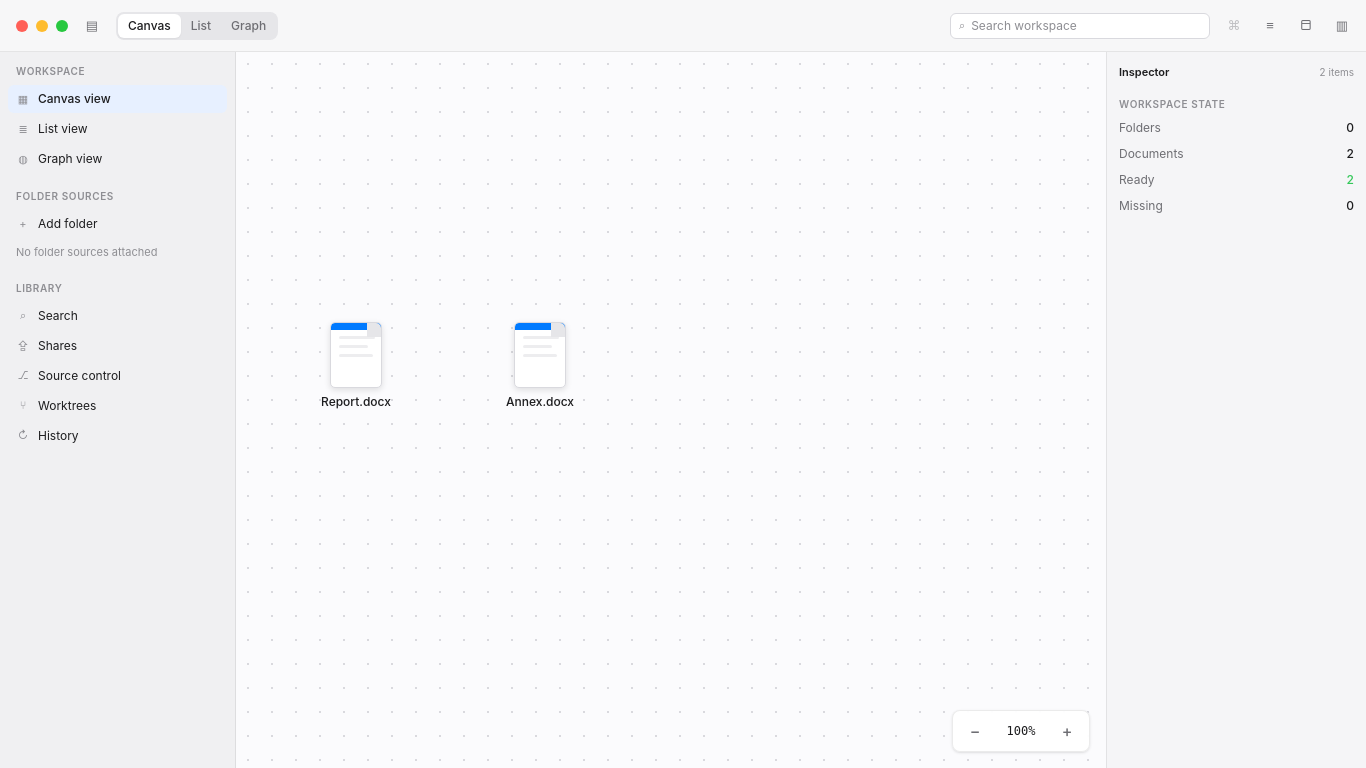
Test: UI-03 screen 12 — only overlays with a real source and trigger › mounts the PDF progress overlay from the real batch export response
The width and height of the screenshot is (1366, 768).
Click the button named "PDF" at (1306, 26), box [1294,14,1318,38]
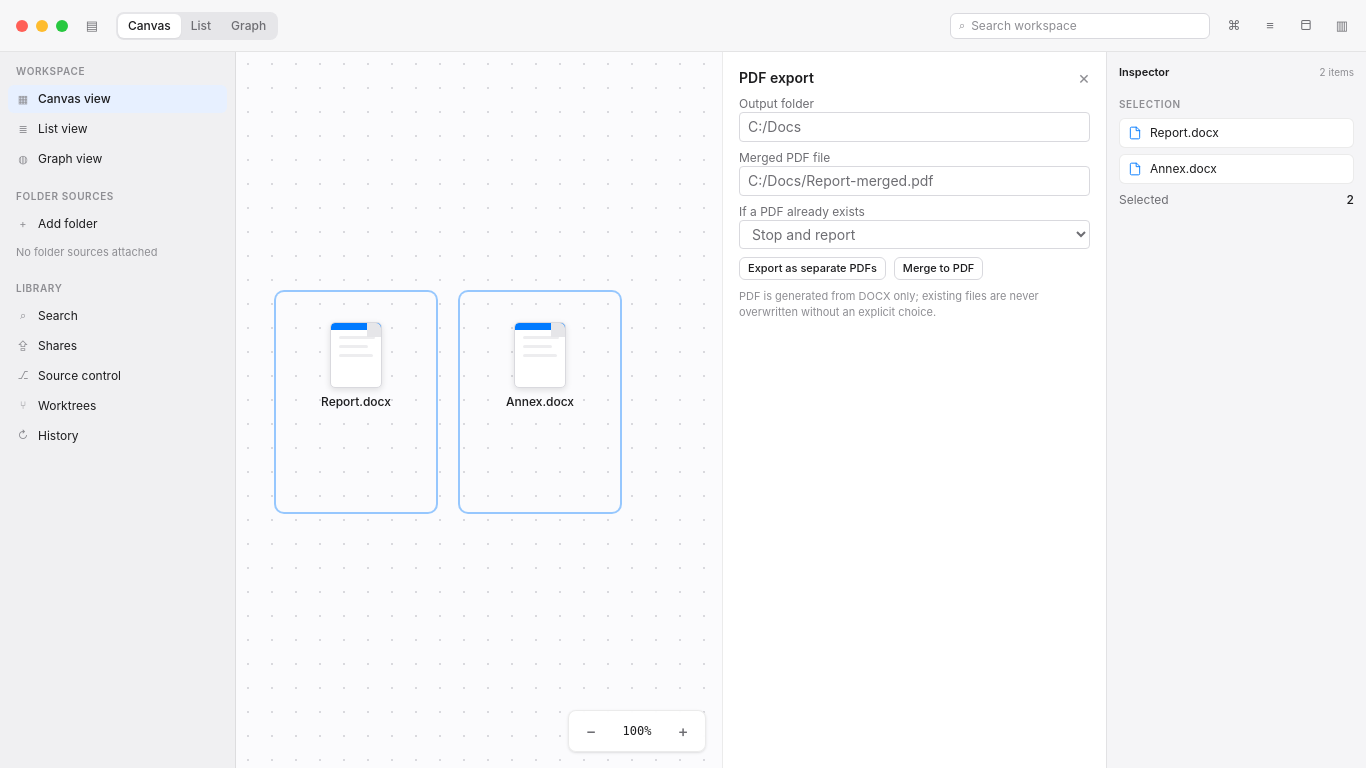
Click the button "Export as separate PDFs" at (812, 268), box [739,257,886,280]
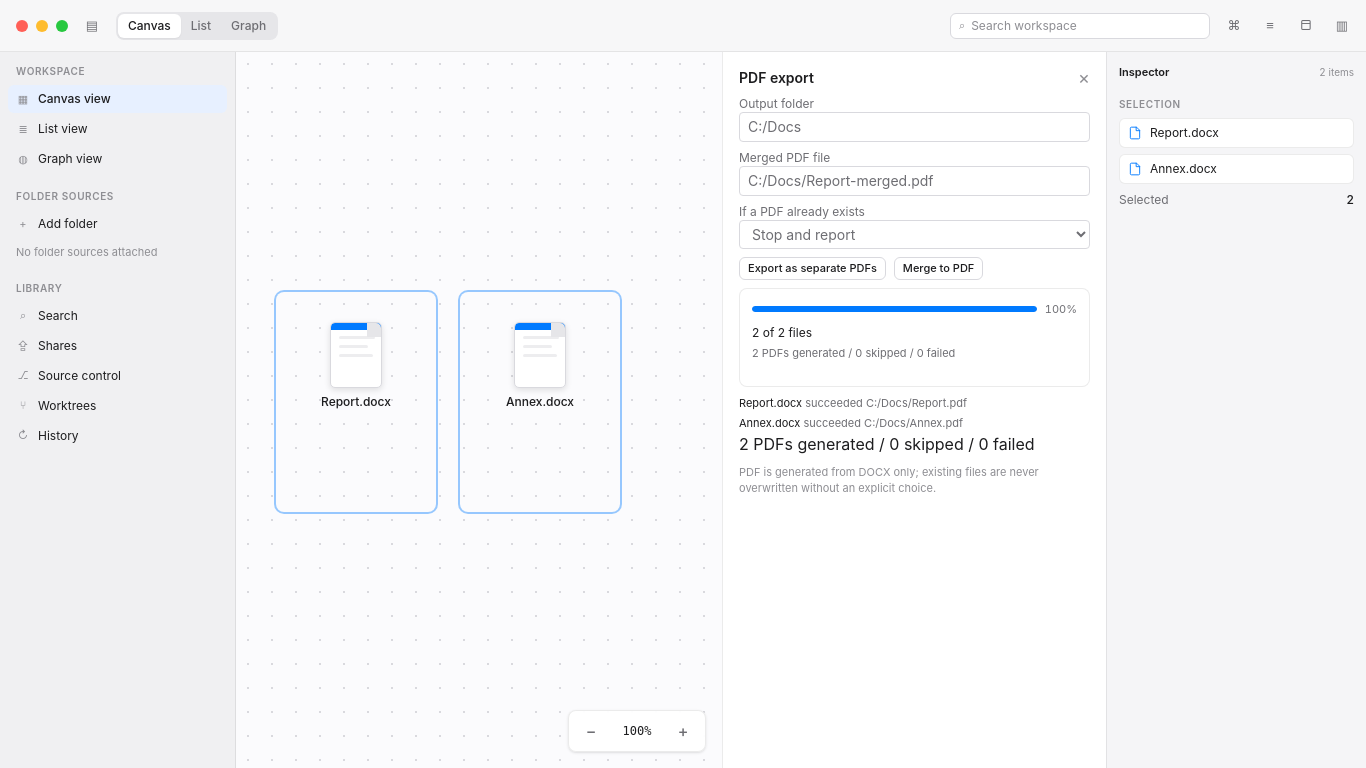
Expected: the element named "Batch PDF export progress" shows "2 PDFs generated / 0 skipped / 0 failed", [739,288,1090,386]
